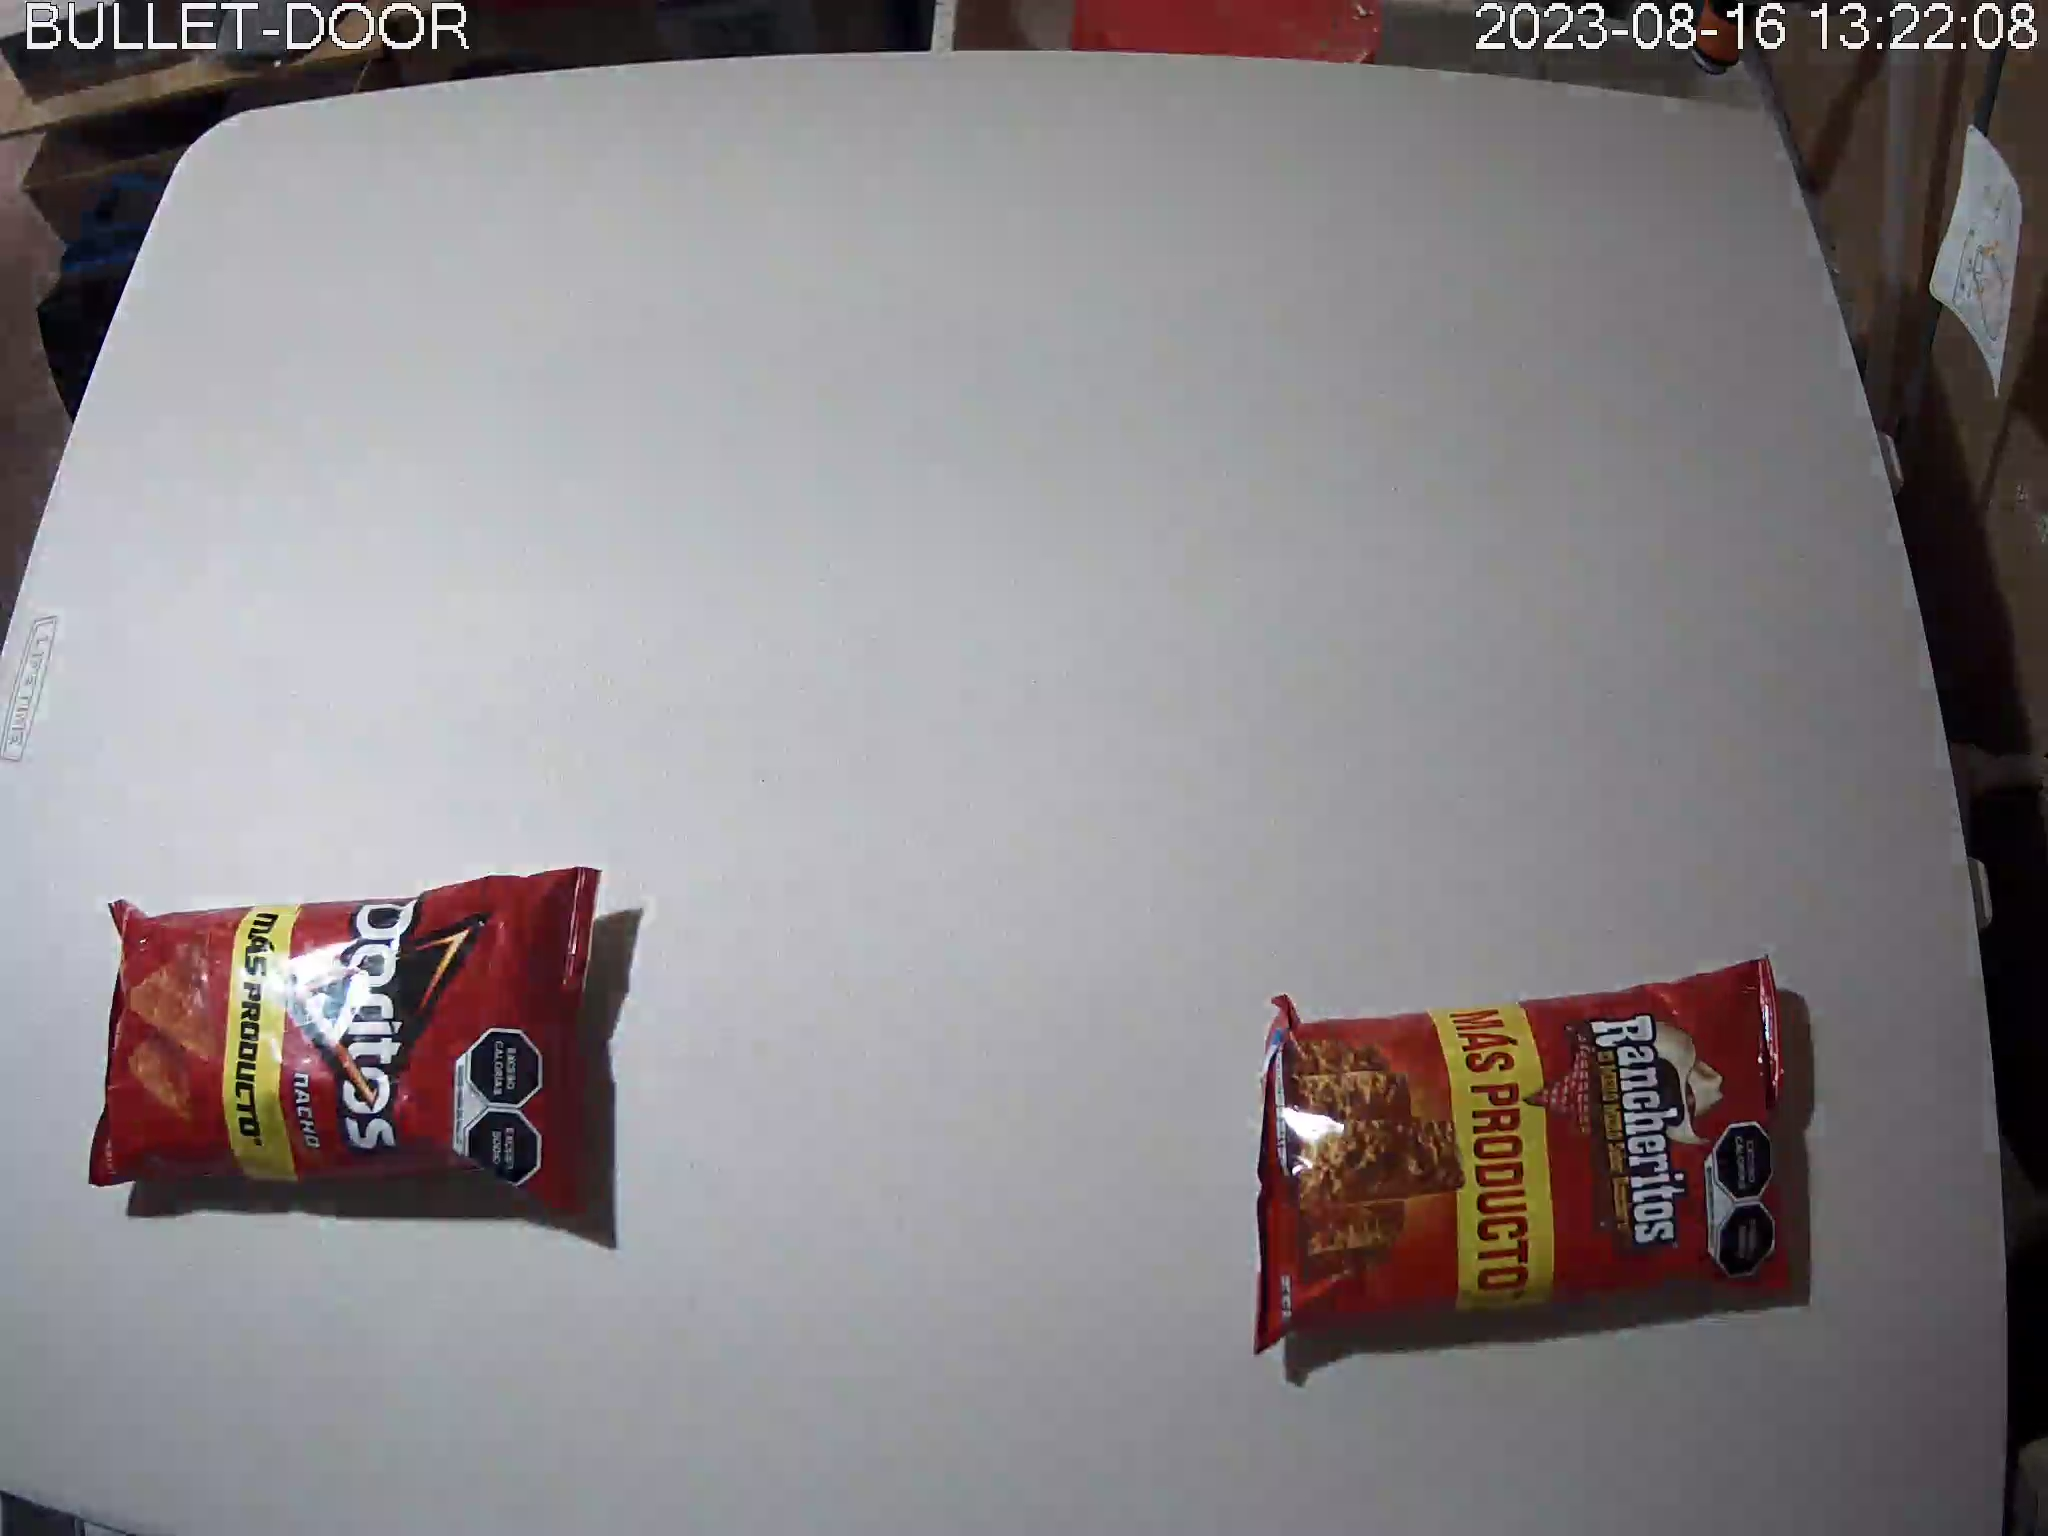DoritosN_61_F: (90, 865, 606, 1220)
Rancheritos_58_F: (1253, 954, 1801, 1357)
